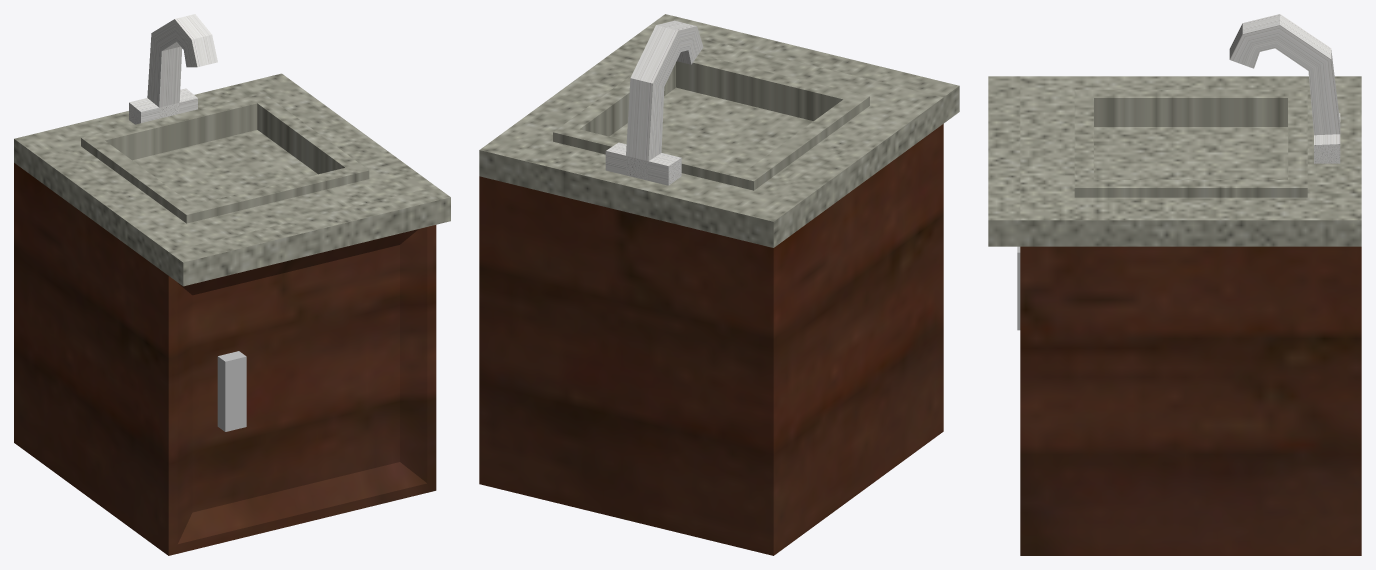
Rendered from kitchen sink.fbx.
3 views of the same model, side by side, from view 1: azimuth 30°, elevation 25°; view 2: azimuth 150°, elevation 25°; view 3: azimuth 270°, elevation 25° (orthographic). The views are drawn at different scales.
Visible parts, largest first — view 1: Kitchen Sink, Cube.005, Cube.006, Cube; view 2: Kitchen Sink, Cube.005, Cube.006; view 3: Kitchen Sink, Cube.005, Cube.006.
Part boxes in pixels (<box>): Kitchen Sink: <box>14,163,436,555</box>; Cube.005: <box>14,73,450,286</box>; Cube.006: <box>129,14,217,124</box>; Cube: <box>217,351,246,431</box>; Kitchen Sink: <box>479,124,943,555</box>; Cube.005: <box>479,14,959,247</box>; Cube.006: <box>605,20,703,185</box>; Kitchen Sink: <box>1020,246,1361,555</box>; Cube.005: <box>988,76,1361,246</box>; Cube.006: <box>1229,14,1340,163</box>.
Size of the model in its own units: 200 by 300 by 219.
